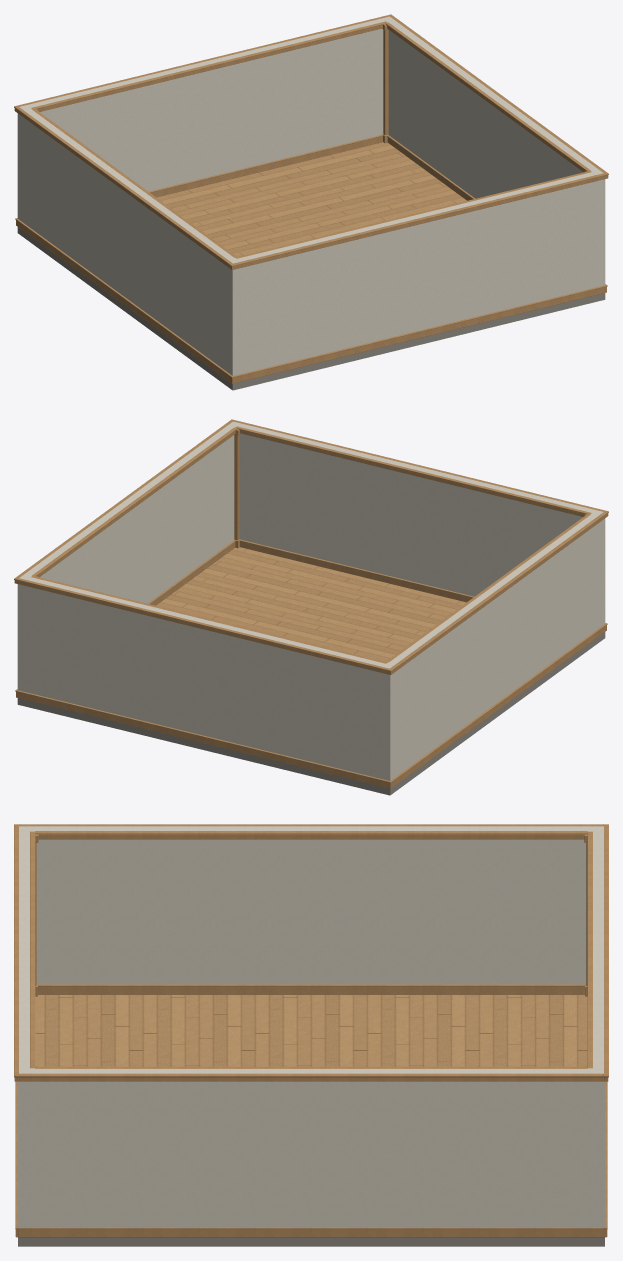
The model's file is hub.glb.
3 renders of one model, top to bottom at view 1: azimuth 30°, elevation 25°; view 2: azimuth 150°, elevation 25°; view 3: azimuth 270°, elevation 25°, orthographic. The views are drawn at different scales.
Visible parts, largest first — view 1: Wall_Upper (×4), Wall_Lower (×4), Floor, Trim_Upper (×4), Trim_Lower (×4), Wall_Foundation (×2), Oak_Column; view 2: Wall_Upper (×4), Wall_Lower (×4), Floor, Trim_Upper (×4), Trim_Lower (×4), Wall_Foundation (×2), Oak_Column; view 3: Wall_Upper (×4), Wall_Lower (×2), Floor, Trim_Upper (×4), Trim_Lower (×2), Wall_Foundation.
Part boxes in pixels (x1,y1,x2,y2): Wall_Upper (×4): [17, 16, 605, 348]; Wall_Lower (×4): [17, 107, 605, 375]; Floor: [156, 142, 466, 256]; Trim_Upper (×4): [14, 14, 608, 269]; Trim_Lower (×4): [15, 134, 607, 383]; Wall_Foundation (×2): [22, 231, 605, 390]; Oak_Column: [383, 29, 388, 135]; Wall_Upper (×4): [17, 421, 605, 753]; Wall_Lower (×4): [17, 512, 605, 780]; Floor: [156, 547, 466, 661]; Trim_Upper (×4): [14, 419, 608, 674]; Trim_Lower (×4): [15, 539, 607, 788]; Wall_Foundation (×2): [17, 636, 600, 795]; Oak_Column: [234, 434, 239, 540]; Wall_Upper (×4): [18, 826, 604, 1189]; Wall_Lower (×2): [31, 947, 591, 1226]; Floor: [35, 995, 587, 1066]; Trim_Upper (×4): [14, 824, 608, 1081]; Trim_Lower (×2): [18, 984, 604, 1237]; Wall_Foundation: [31, 1237, 591, 1246].
Size of the model in its own units: 10.62 by 3.4 by 10.62.
4 materials, 3 textured.
